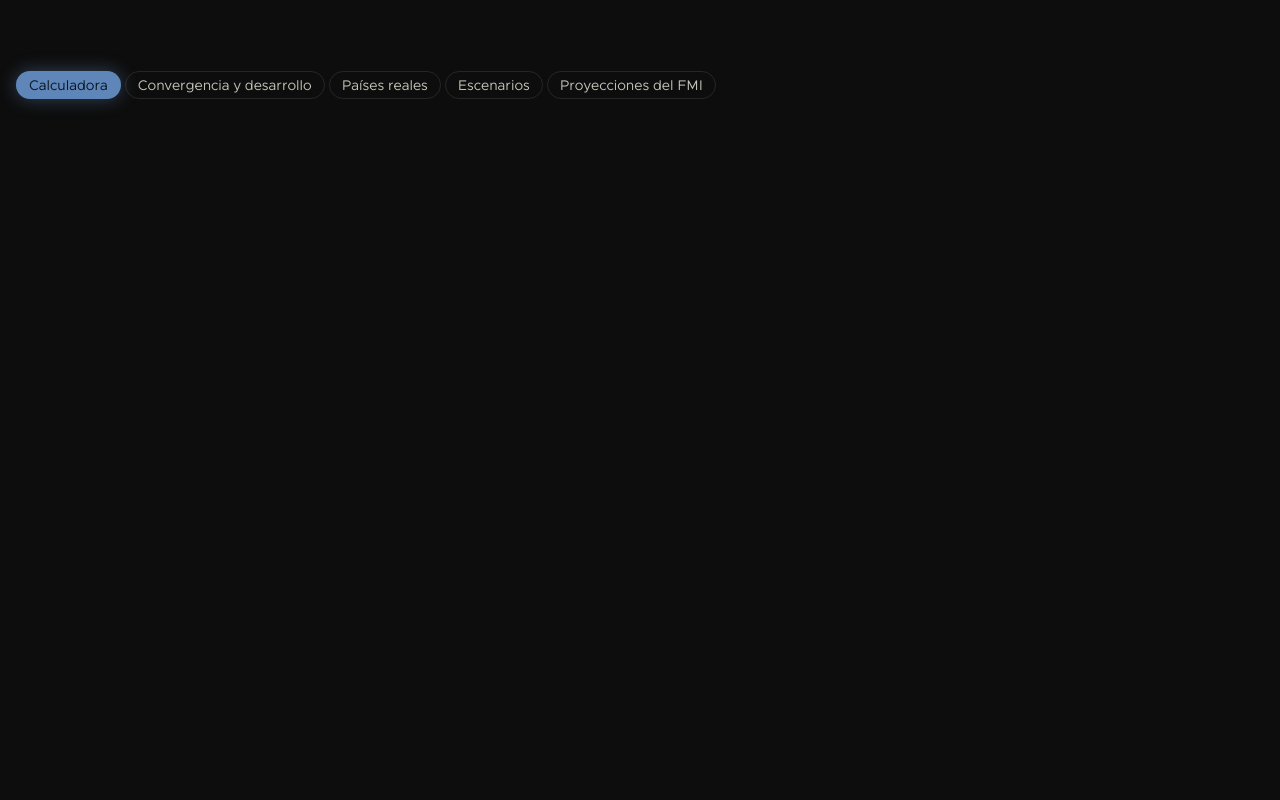
Scenario: the comparison of two rates › says there is no crossing when both start at the same level
The width and height of the screenshot is (1280, 800).
Click the tab "Escenarios".
click(494, 85)  # box [445,71,543,99]
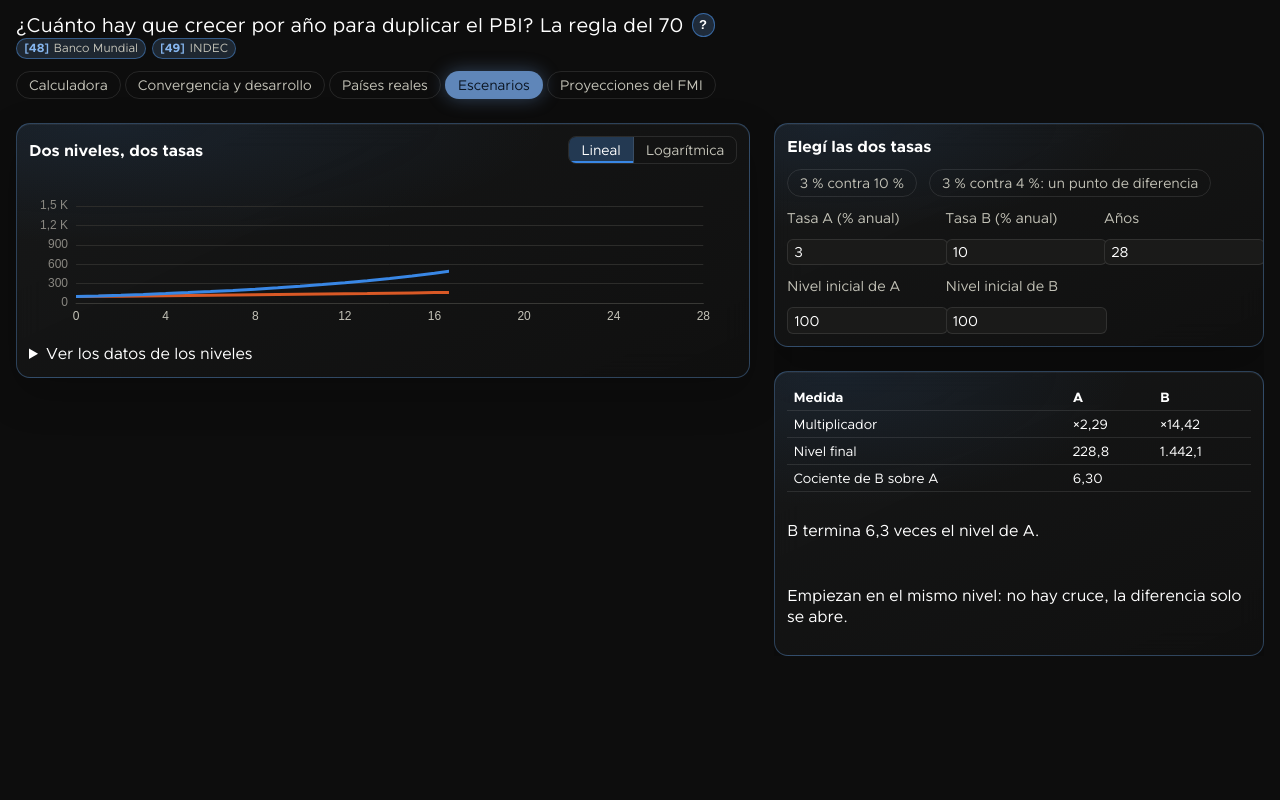
Expected: the text "Empiezan en el mismo nivel" is shown, [787,585,1242,627]
